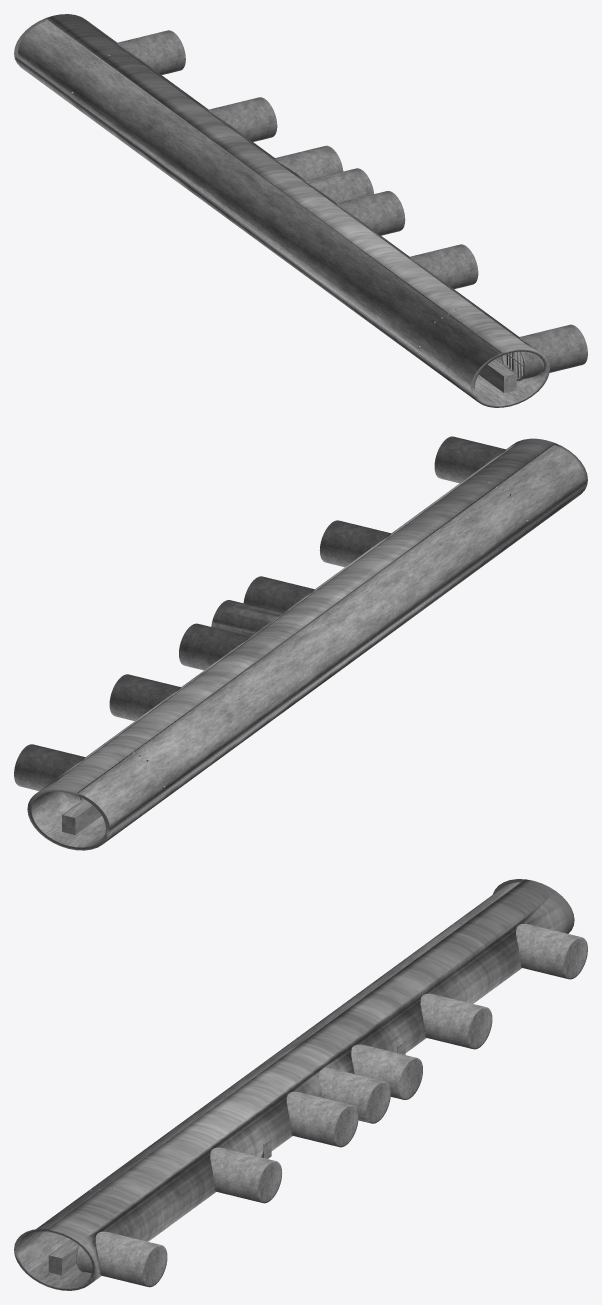
The model's file is Stage.gltf.
3 views of the same model, one above another, from view 1: azimuth 30°, elevation 25°; view 2: azimuth 150°, elevation 25°; view 3: azimuth 330°, elevation 25° (orthographic). The views are drawn at different scales.
Parts seen in each view (by area): view 1: S_Tunnel, S_Pipe, S_Load; view 2: S_Tunnel, S_Pipe, S_Load; view 3: S_Tunnel, S_Pipe, S_Load.
Boxes of the visible parts, bbox=[...] form: S_Tunnel: bbox=[14, 14, 549, 407]; S_Pipe: bbox=[117, 30, 587, 381]; S_Load: bbox=[479, 358, 516, 392]; S_Tunnel: bbox=[27, 438, 587, 850]; S_Pipe: bbox=[14, 436, 506, 800]; S_Load: bbox=[62, 799, 101, 834]; S_Tunnel: bbox=[14, 879, 574, 1290]; S_Pipe: bbox=[76, 923, 587, 1287]; S_Load: bbox=[48, 1041, 405, 1275].
Bounding box in the file's own units: 37.92 × 17.33 × 250.
4 materials, 3 textured.
